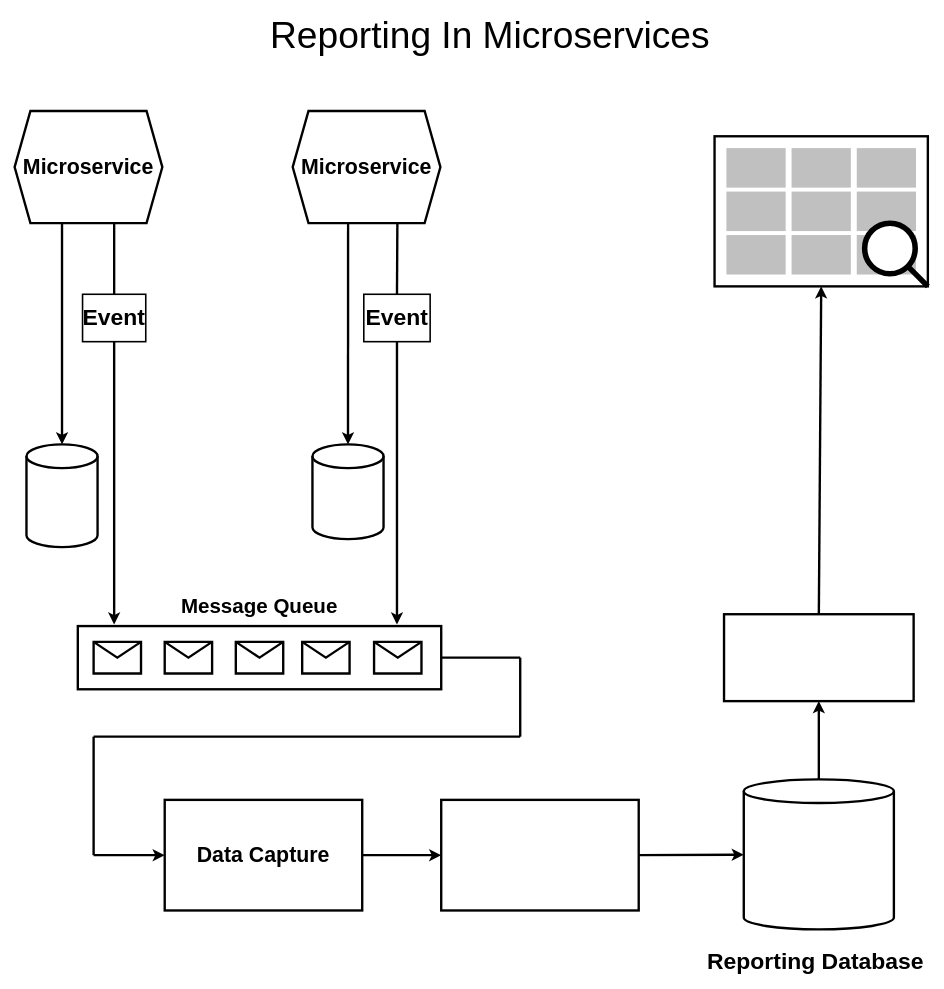
This 944x989 diagram has some shape labels left out. Here are the shapes that lost their labels. From the top down, the centre of each, then its label:
At pixel 818 657: "Reporting Service".
At pixel 540 854: "Data Aggregator".
